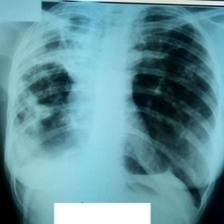tuberculosis: (14, 1, 214, 221)
